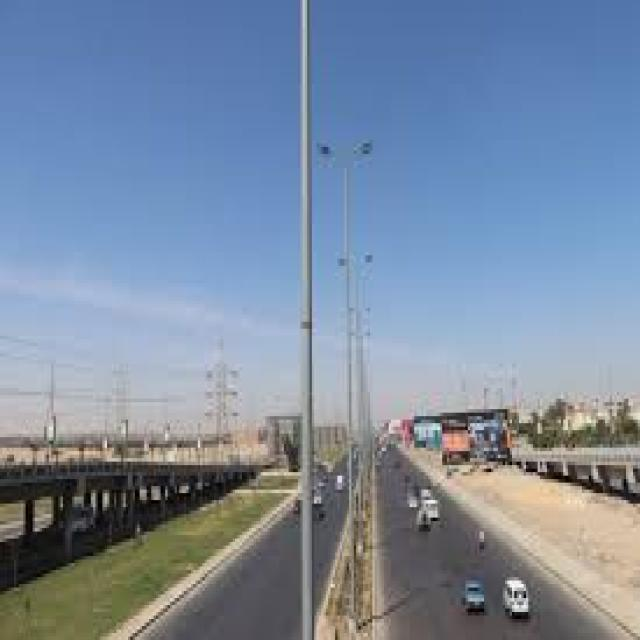Street Light: (316, 136, 374, 619)
